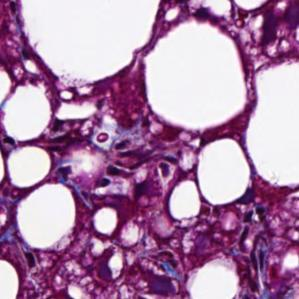inflammation: (105, 145, 162, 202), (230, 212, 274, 263), (137, 263, 183, 299)
